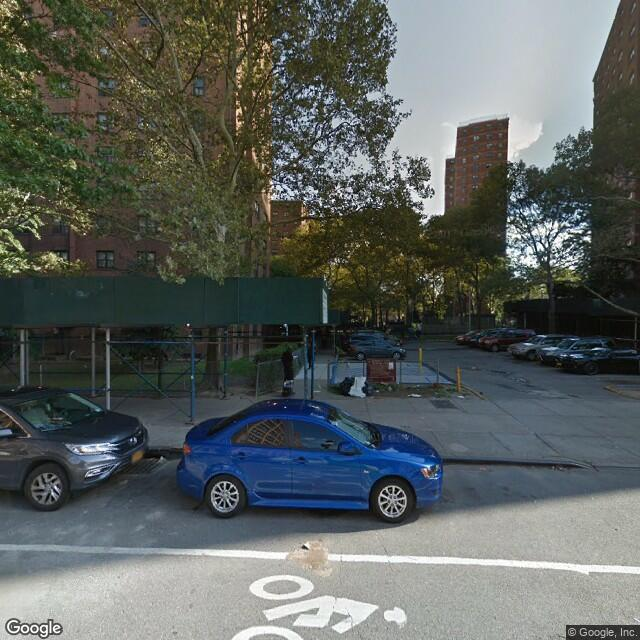litter: (342, 378, 378, 407)
